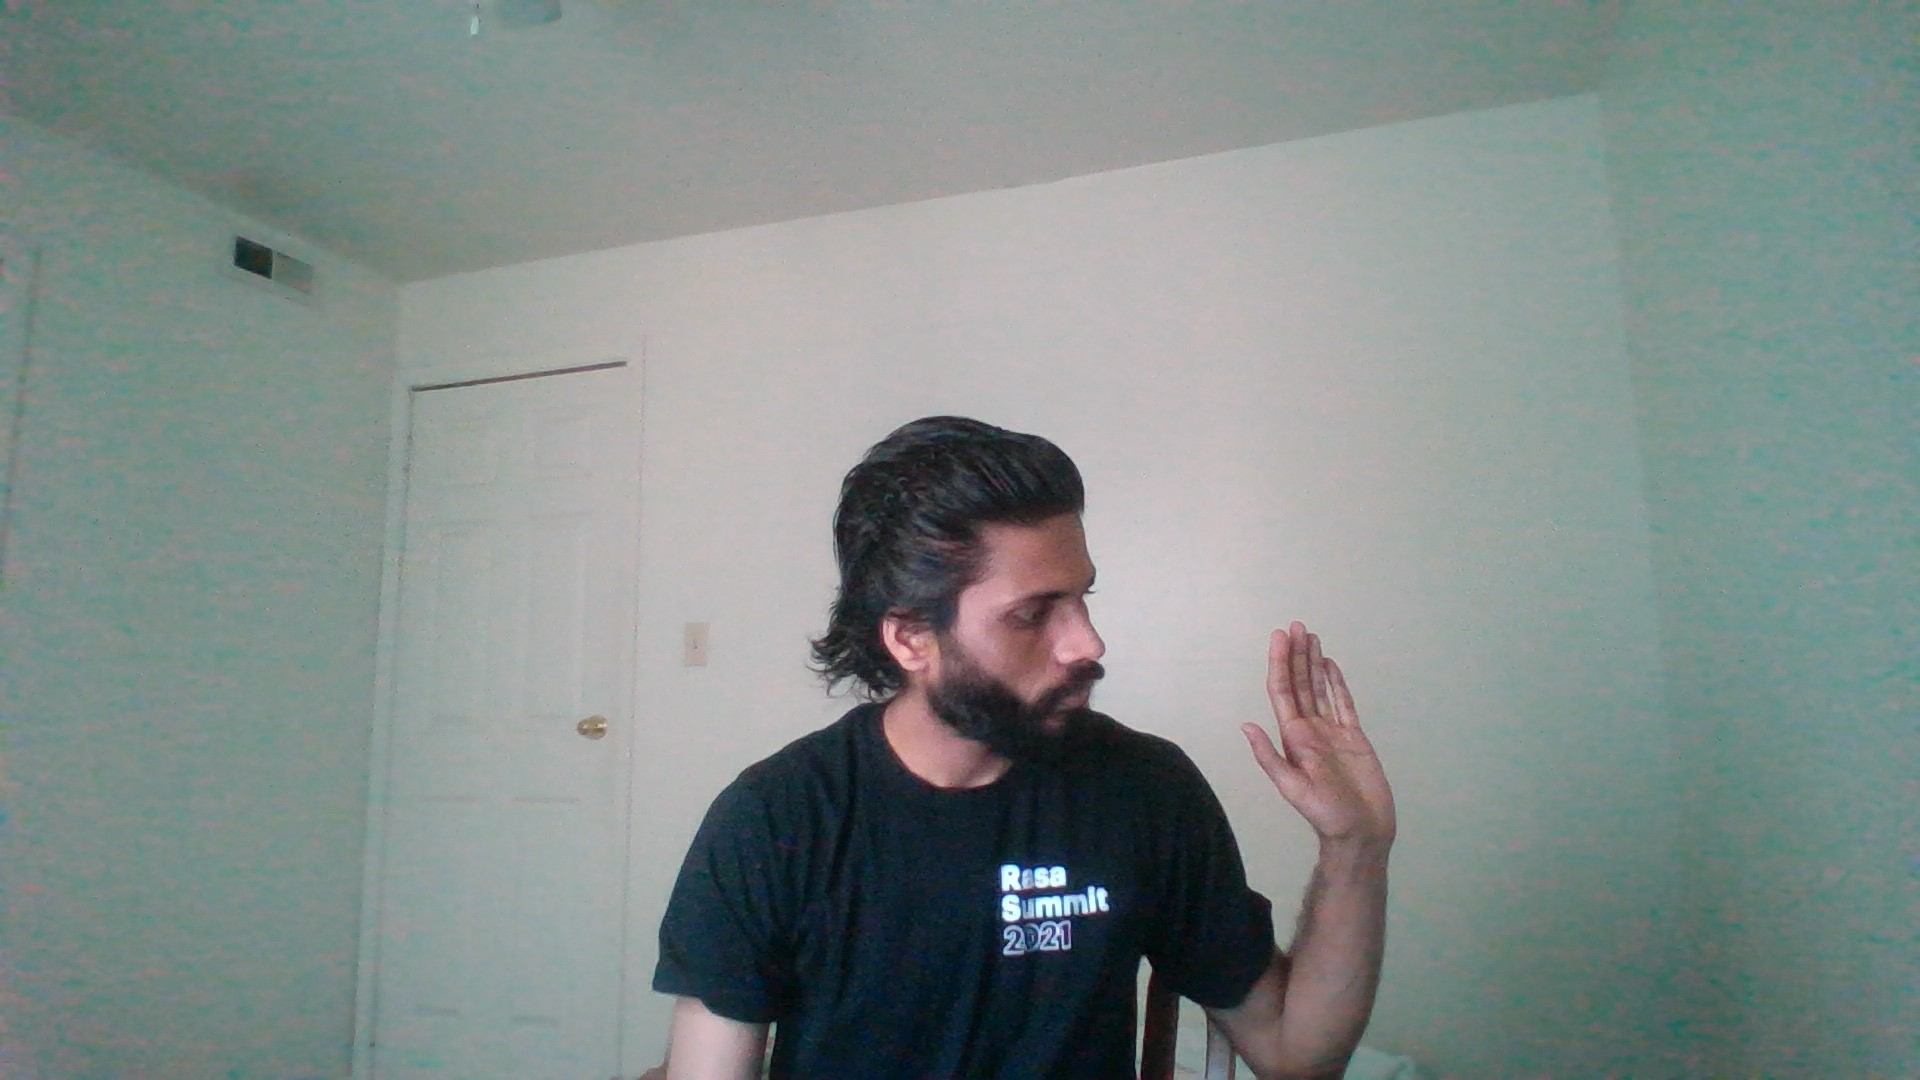Hello: (1185, 600, 1509, 902)
